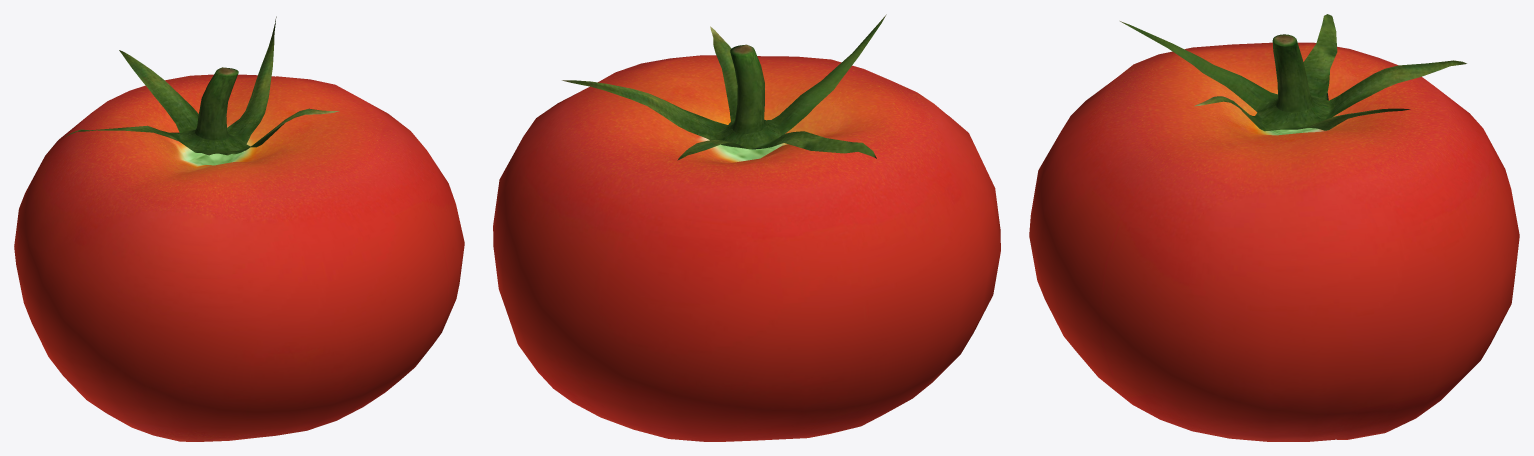
File: tomato.glb
3 renders of one model, left to right at view 1: azimuth 30°, elevation 25°; view 2: azimuth 150°, elevation 25°; view 3: azimuth 270°, elevation 25°, orthographic. The views are drawn at different scales.
Bounding box in the file's own units: 112 × 88.22 × 109.
Materials: 1 (1 with a texture image).
